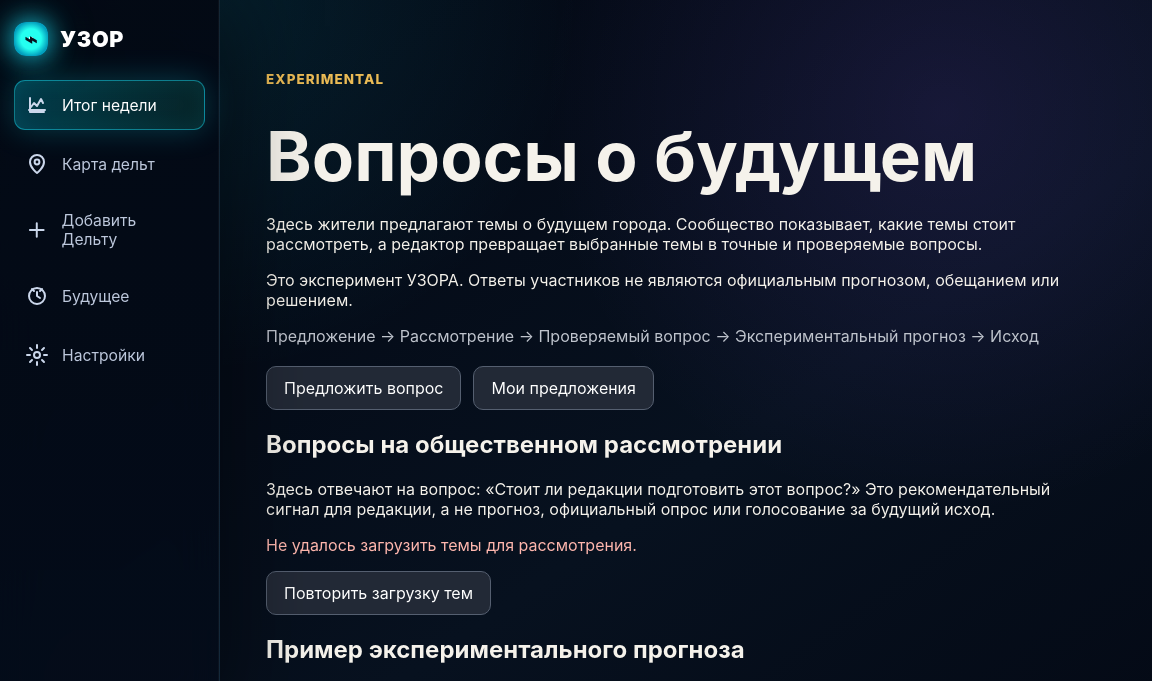
Scenario: ForecastFutureHub production states › retries a failed list request
Check: the text "Не удалось загрузить темы для рассмотрения." is shown, box [266,535,637,555]
Click the button "Повторить загрузку тем" at (379, 593), box [266,571,491,615]
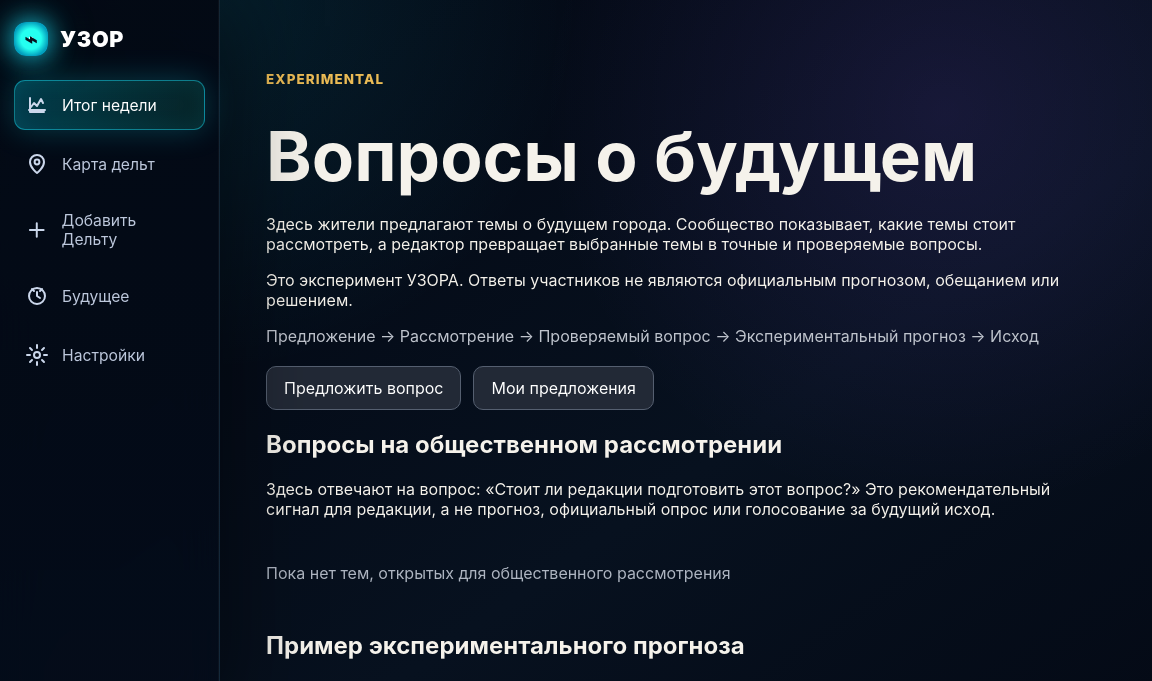
Check: the text "Пока нет тем, открытых для общественного рассмотрения" is shown, box [266,563,731,583]
